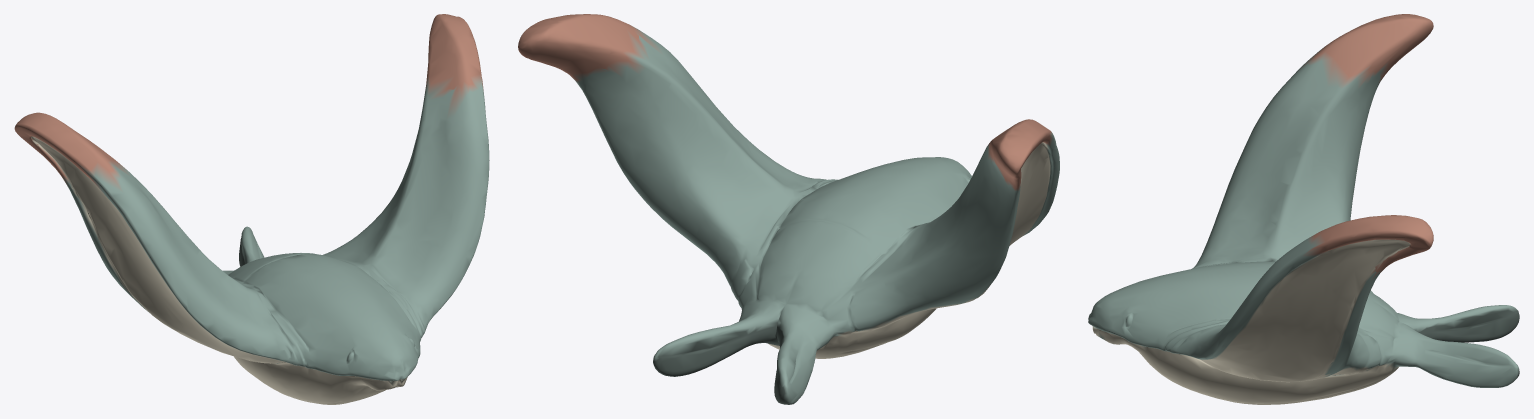
The model's file is storm-ray.glb.
3 views of the same model, side by side, from view 1: azimuth 30°, elevation 25°; view 2: azimuth 150°, elevation 25°; view 3: azimuth 270°, elevation 25° (orthographic). The views are drawn at different scales.
Visible parts, largest first — view 1: storm ray; view 2: storm ray; view 3: storm ray.
Part boxes in pixels (x1,y1,x2,y2): storm ray: [14, 14, 489, 404]; storm ray: [518, 14, 1059, 404]; storm ray: [1088, 14, 1519, 404].
Bounding box in the file's own units: 2.78 × 1.64 × 2.3.
